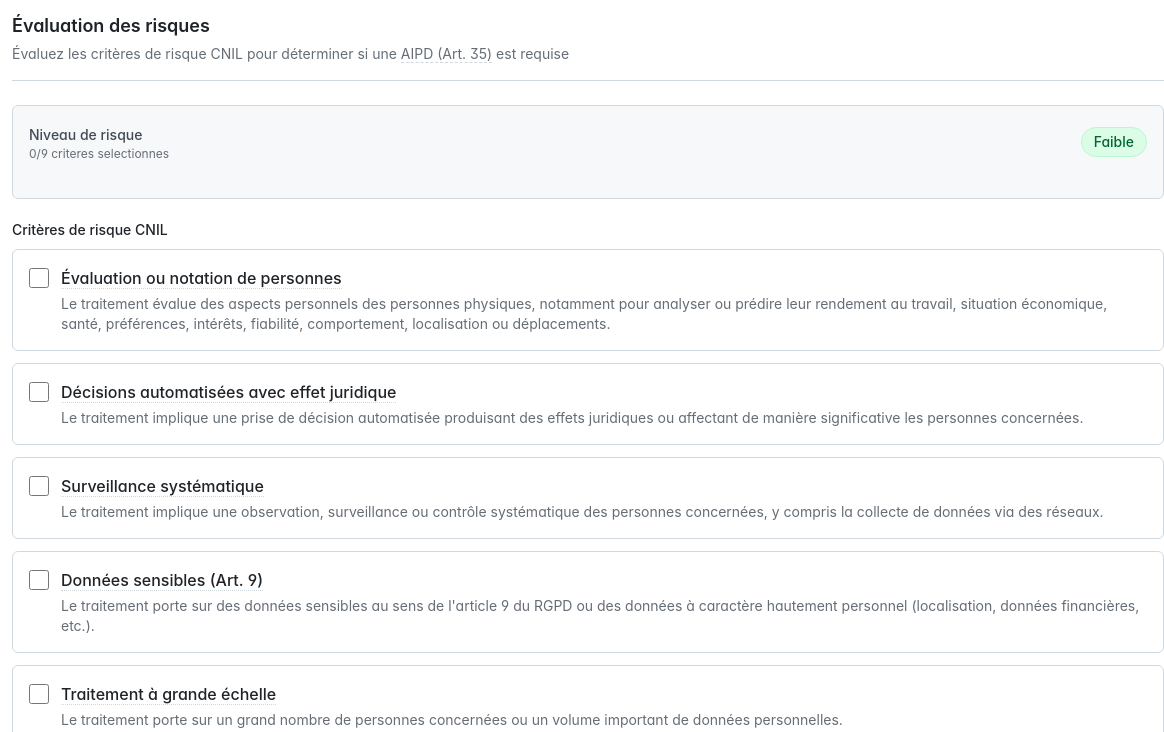
Scenario: Step5Risk › clicking an unchecked criterion flips it in form state (MEDIUM risk)
Expected: the text "Évaluation ou notation de personnes" is shown, [61,268,342,288]
Step 1. Click the checkbox named "Évaluation ou notation de personnes" → (39, 278), box [29,268,49,288]
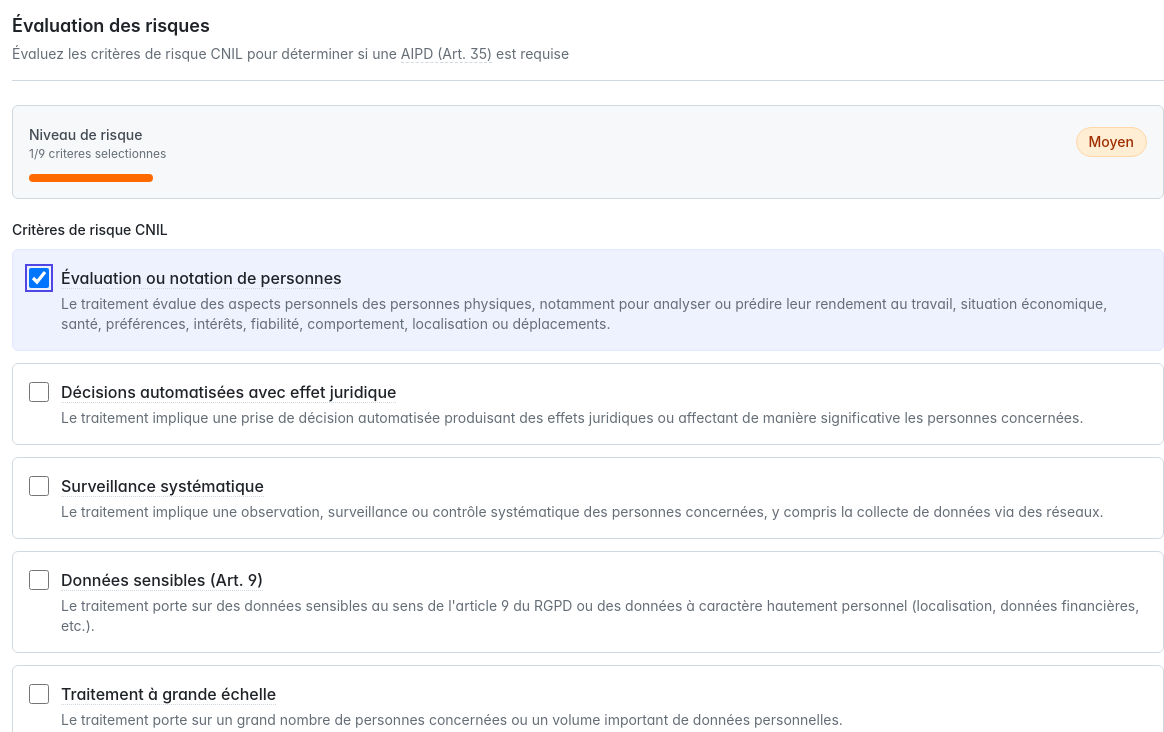
Now the text "Moyen" is shown, box [1076,127,1147,157]
